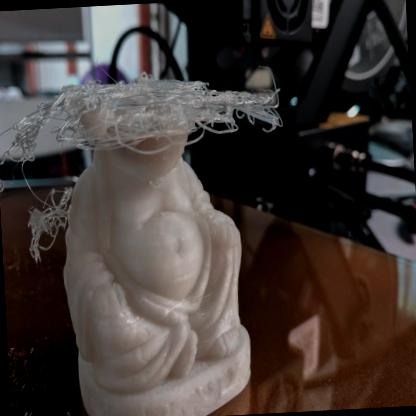fail: (54, 66, 286, 148), (1, 98, 69, 259)
